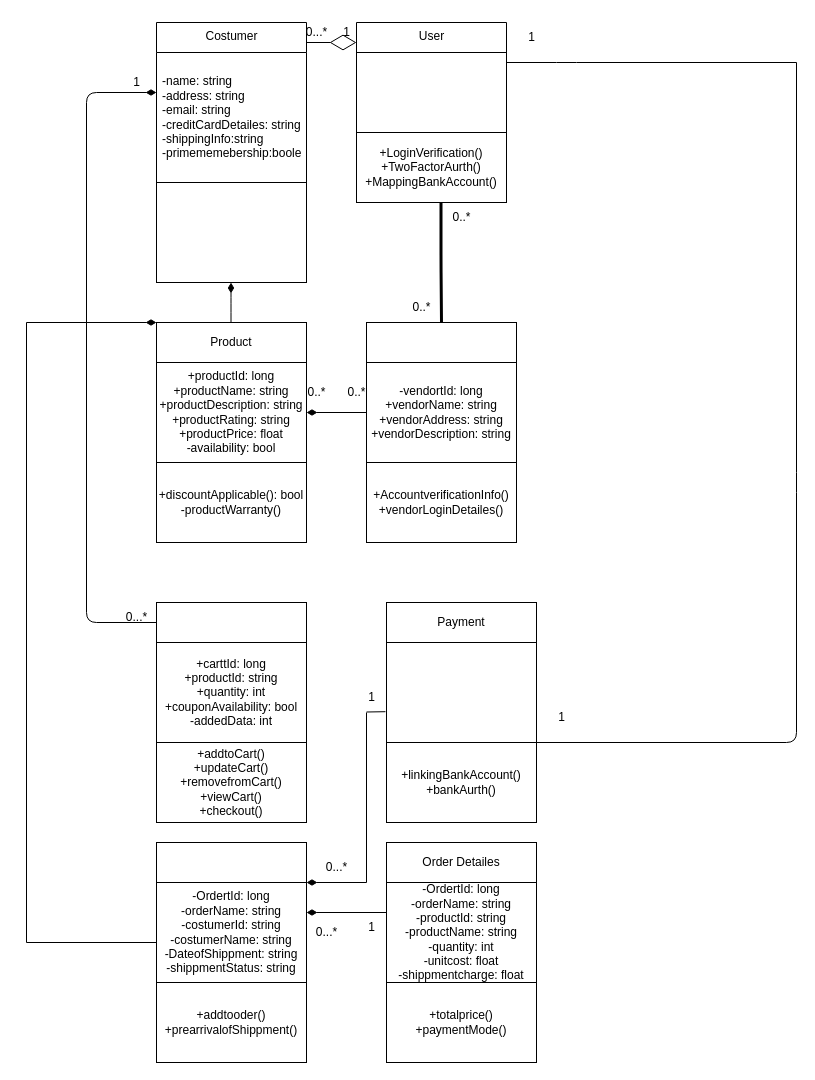
Image size: 815x1080. Some labels were removed from this diagram. The shapes that lost their labels are listed below. From the top down, each one's centre as x and y in pixels, then its label:
At pixel 431 97: "-userId: long -password: string -twoWayAurth: bool -loginStatus:string".
At pixel 231 232: "+AccountRegisterInfo() +LoginDetailes() +personalInfoUpdate()".
At pixel 441 342: "Vendor".
At pixel 231 622: "Shopping Cart".
At pixel 461 692: "-paymentId: int -costumerId: floaat -costumerName: string +modeofPayment: string".
At pixel 231 862: "Order".
